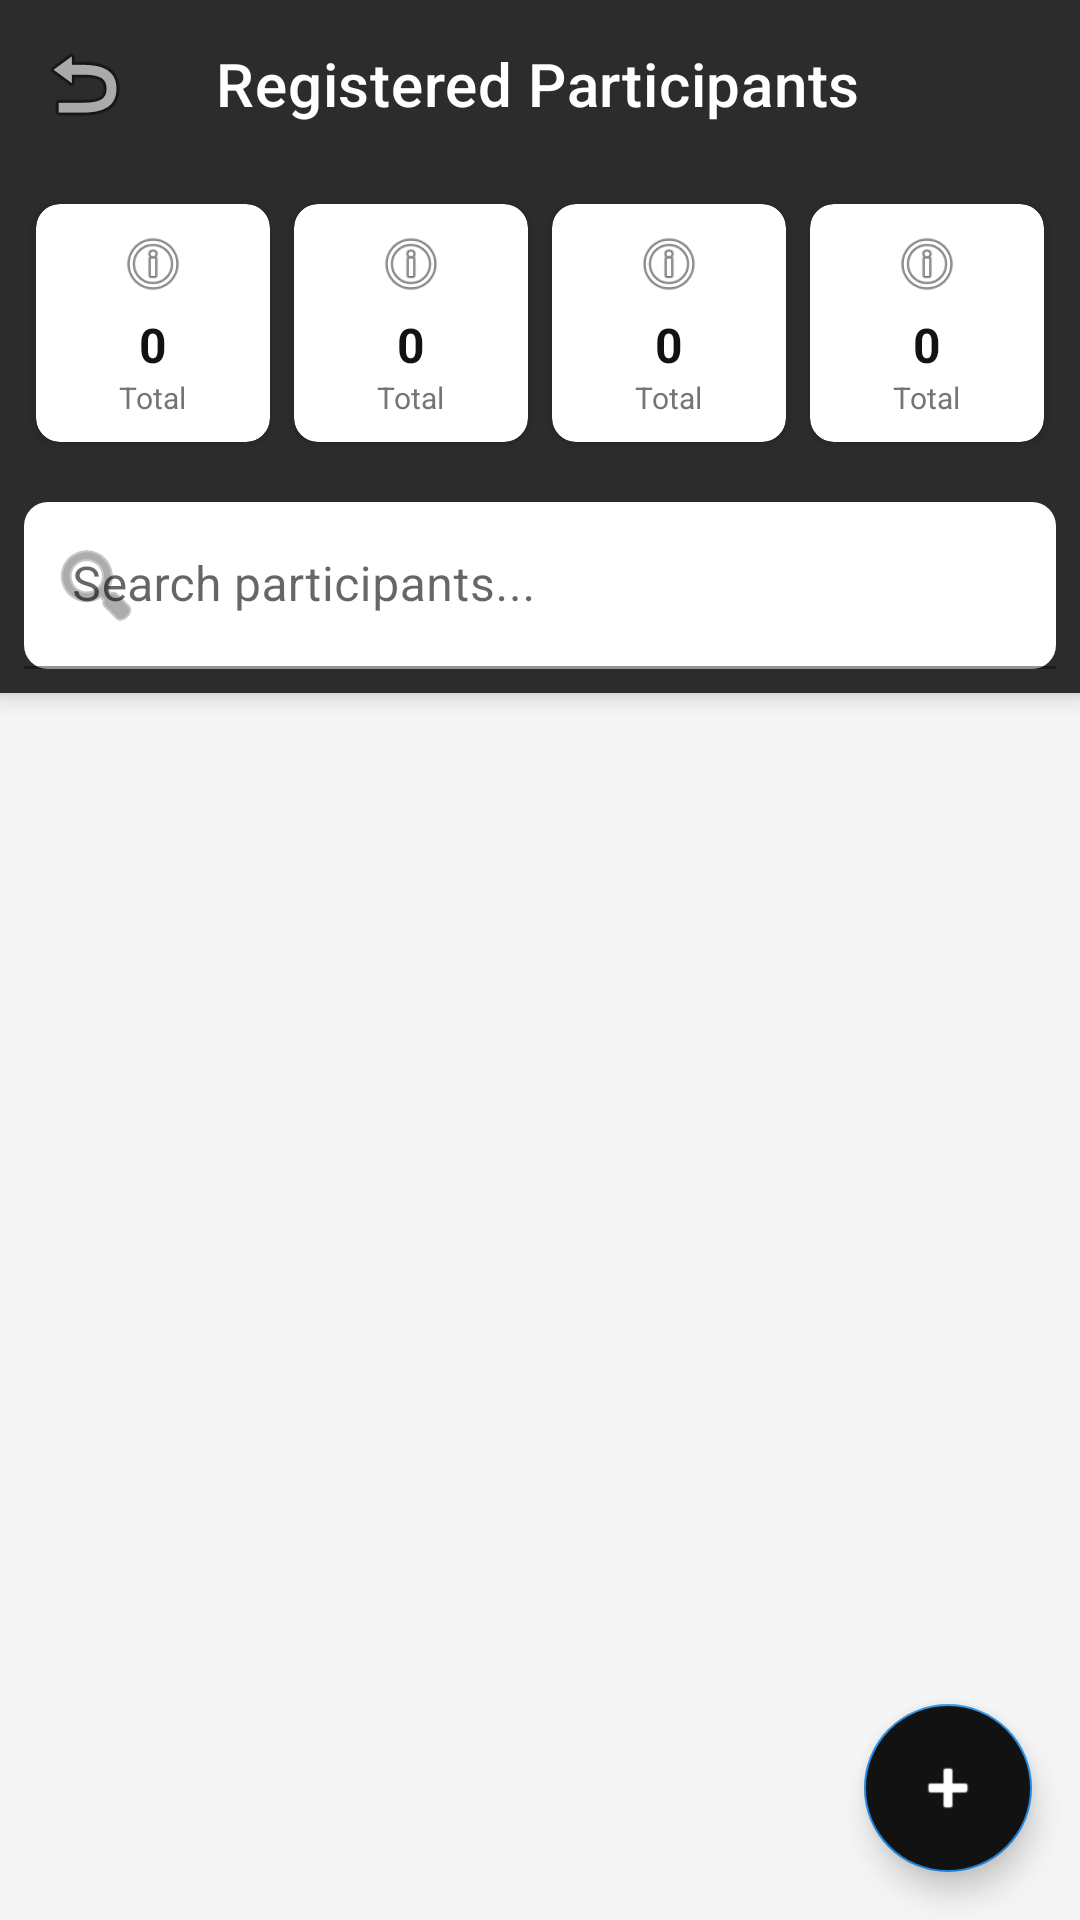

Where icons sit on this 1080x1920 app screen, as (x1, y1, x2, y2):
add: (864, 1704, 1032, 1872)
info details: (127, 238, 179, 290), (385, 238, 437, 290), (643, 238, 695, 290), (901, 238, 953, 290)
